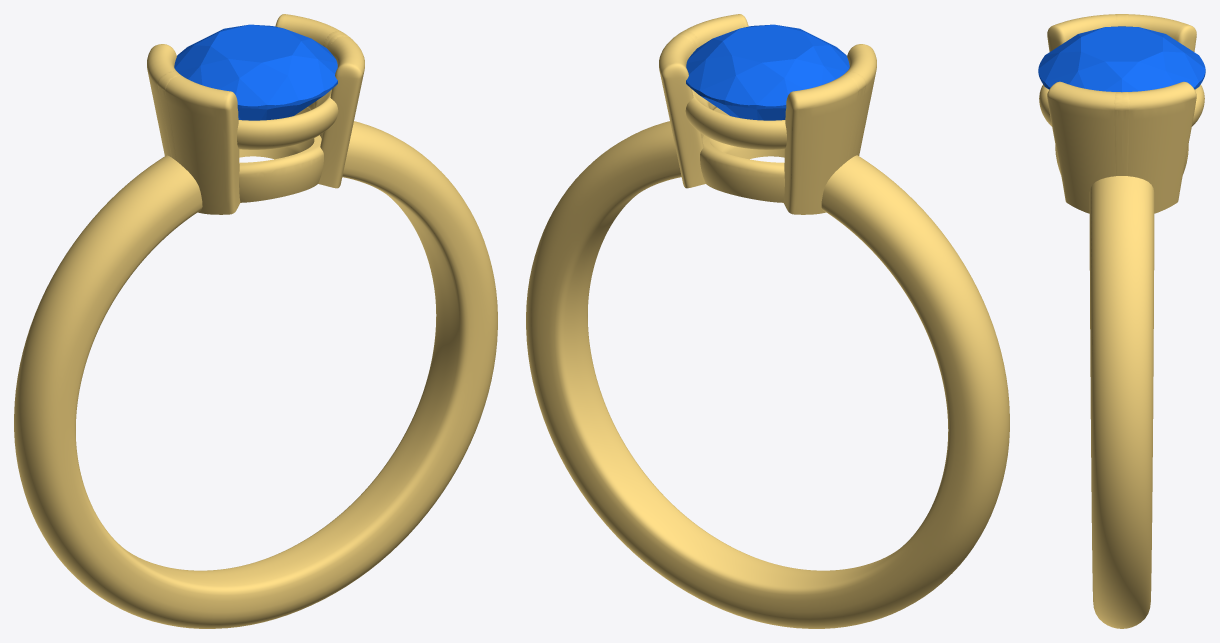
Rendered from bluesapphire-round-yellowgold-halfmoonbezel-straightband-nosidestones.glb.
3 views of the same model, side by side, from view 1: azimuth 30°, elevation 25°; view 2: azimuth 150°, elevation 25°; view 3: azimuth 270°, elevation 25° (orthographic). The views are drawn at different scales.
Visible parts, largest first — view 1: metal, stone; view 2: metal, stone; view 3: metal, stone.
Part boxes in pixels (left/top/right/bottom): metal: left=14, top=14, right=497, bottom=628; stone: left=174, top=24, right=337, bottom=120; metal: left=526, top=14, right=1009, bottom=628; stone: left=686, top=24, right=849, bottom=120; metal: left=1039, top=14, right=1204, bottom=628; stone: left=1038, top=26, right=1205, bottom=92.
Bounding box in the file's own units: 20.5 × 23.81 × 6.44.
